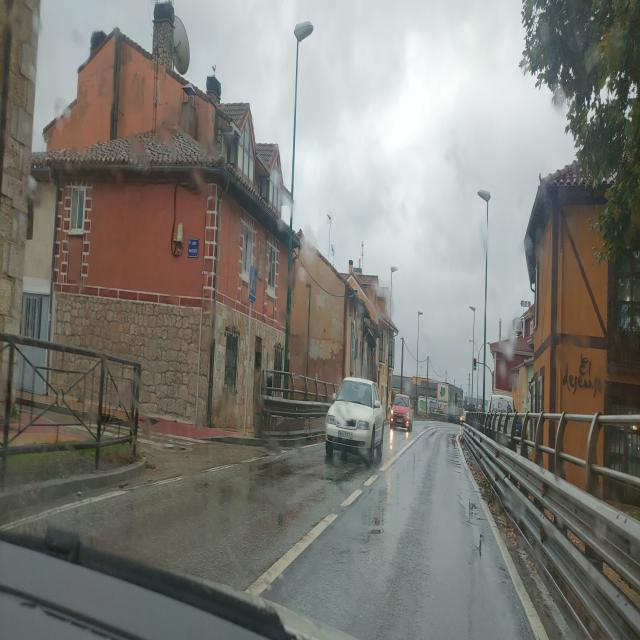Poth-hole: (449, 431, 492, 576)
